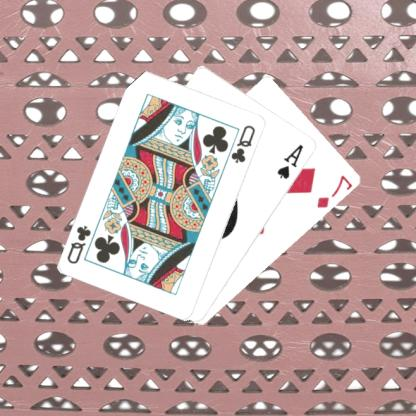7D: (316, 172, 355, 210)
AS: (276, 141, 308, 181)
QC: (230, 122, 259, 165), (66, 223, 95, 266)
